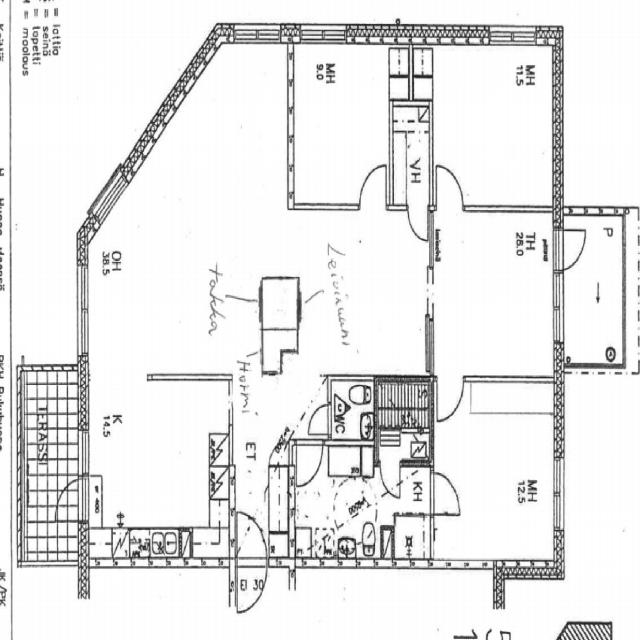door: (233, 507, 269, 613), (432, 157, 468, 213), (428, 469, 464, 519), (550, 226, 588, 272), (433, 372, 466, 423), (292, 437, 324, 488), (358, 158, 390, 207), (378, 457, 404, 503), (405, 201, 431, 244), (305, 402, 332, 438)
window: (72, 255, 93, 361), (462, 195, 551, 220), (548, 456, 570, 538), (548, 276, 569, 353), (433, 552, 498, 576), (230, 18, 282, 46), (487, 24, 537, 50), (298, 20, 351, 44), (395, 554, 431, 572)
zone: (80, 378, 228, 564), (432, 378, 560, 570), (430, 204, 560, 380), (303, 204, 432, 376), (284, 36, 394, 212), (286, 446, 421, 564), (562, 208, 627, 371), (19, 363, 84, 524), (20, 436, 87, 567), (372, 375, 433, 458), (330, 375, 375, 439), (260, 275, 299, 343), (392, 511, 432, 563), (398, 461, 434, 517), (268, 461, 294, 528)
